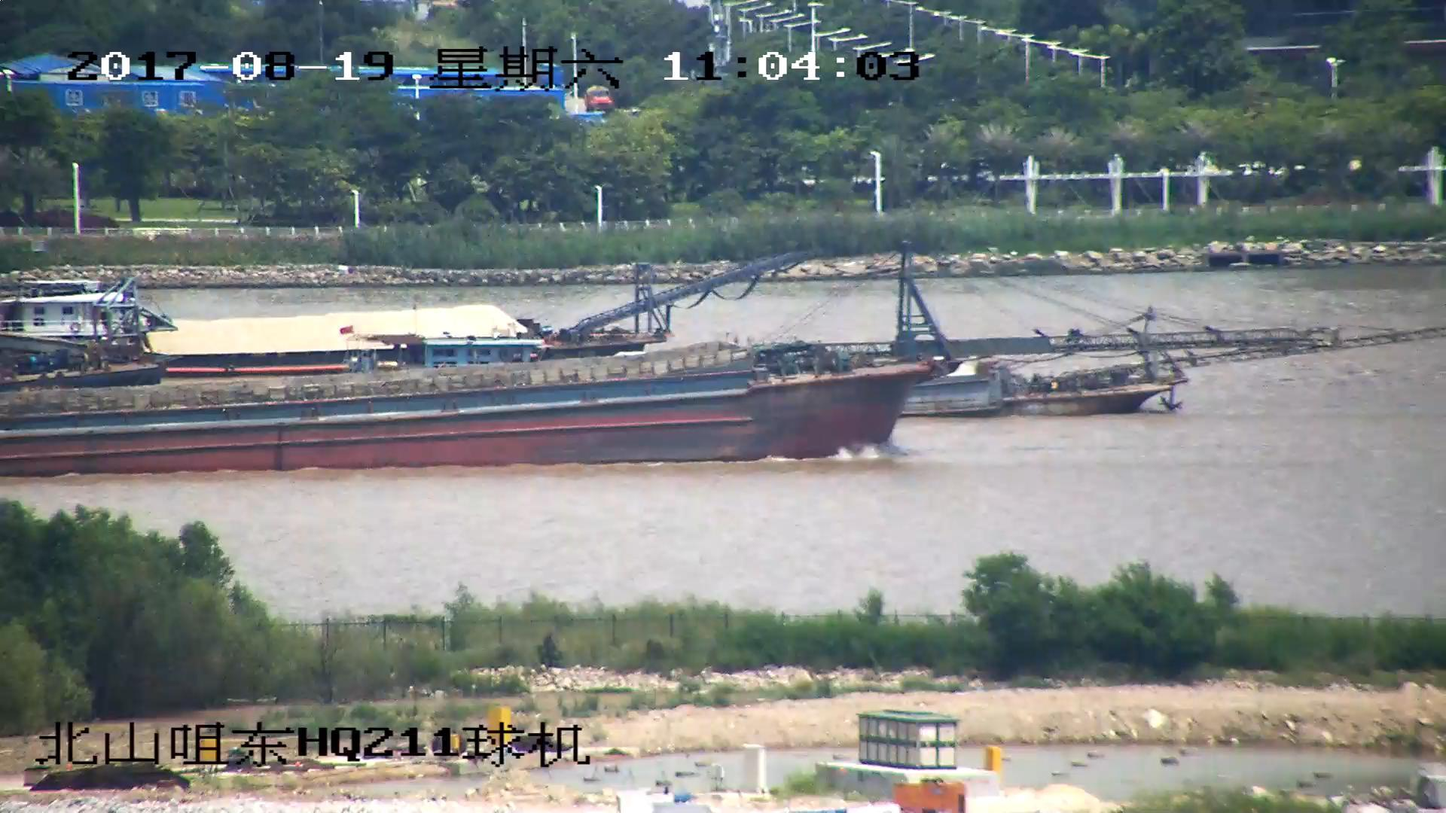bulk cargo carrier: (0, 254, 1293, 482)
ore carrier: (0, 246, 813, 367), (854, 323, 1439, 419)
